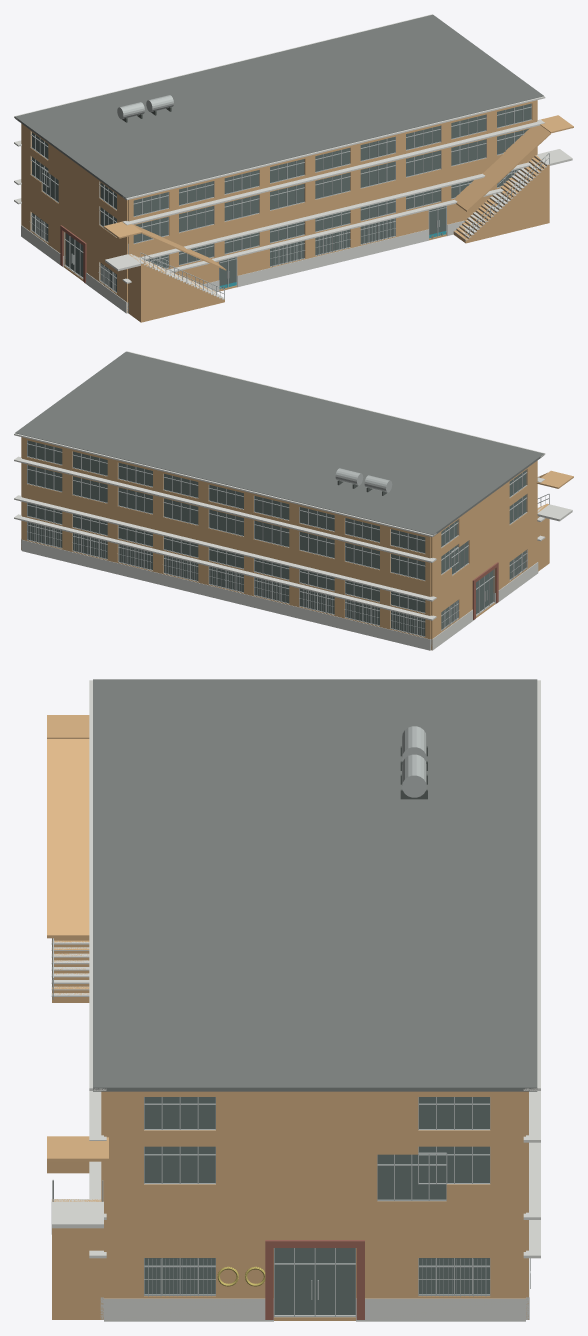
Rendered from canteen.glb.
3 renders of one model, top to bottom at view 1: azimuth 30°, elevation 25°; view 2: azimuth 150°, elevation 25°; view 3: azimuth 270°, elevation 25°, orthographic. The views are drawn at different scales.
Visible parts, largest first — view 1: canteen; view 2: canteen; view 3: canteen.
Part boxes in pixels (box(x1,y1,x2,y2)): canteen: box(14, 14, 573, 322); canteen: box(14, 351, 573, 650); canteen: box(47, 679, 540, 1321).
Bounding box in the file's own units: 42.3 × 11.69 × 19.9.
